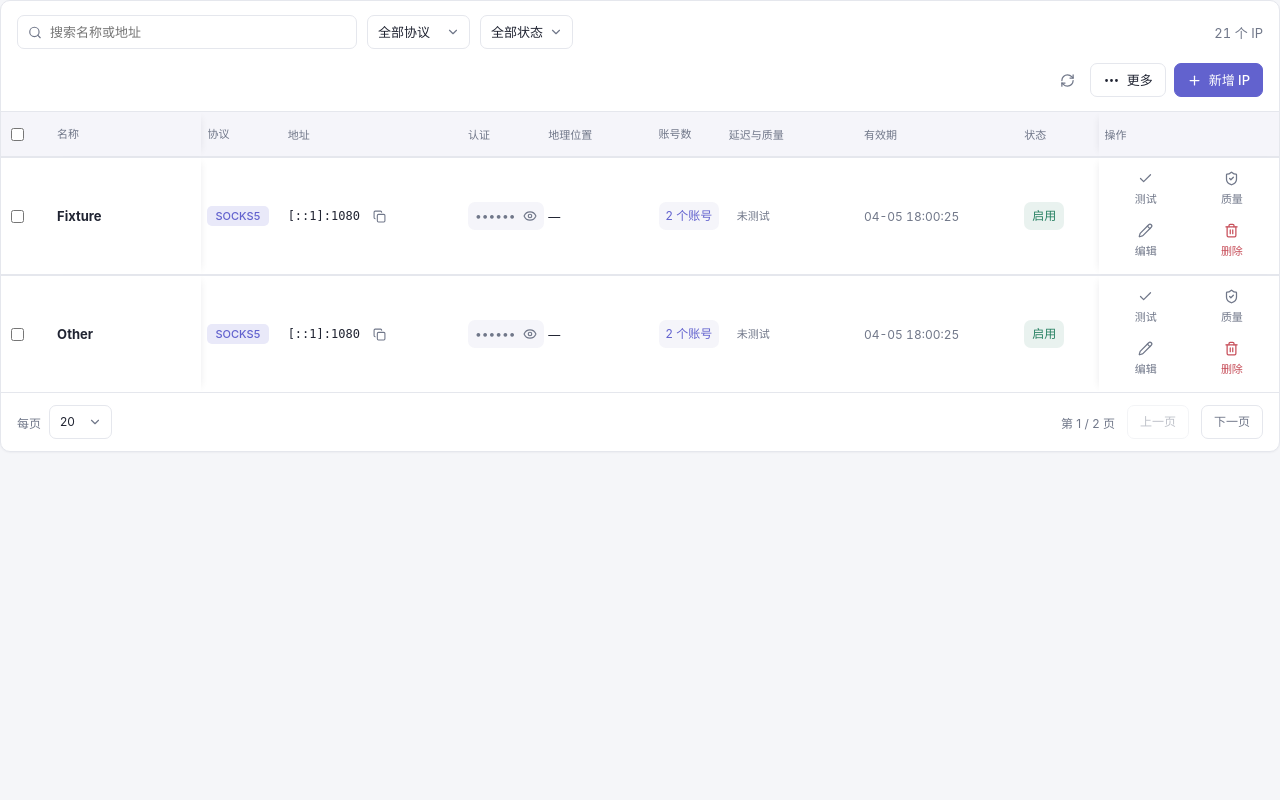
it: IP administration › uses existing diagnostic routes and shows the quality report
Click the button "质量" in the row of "Fixture": (1232, 190) left=1191, top=166, right=1273, bottom=214
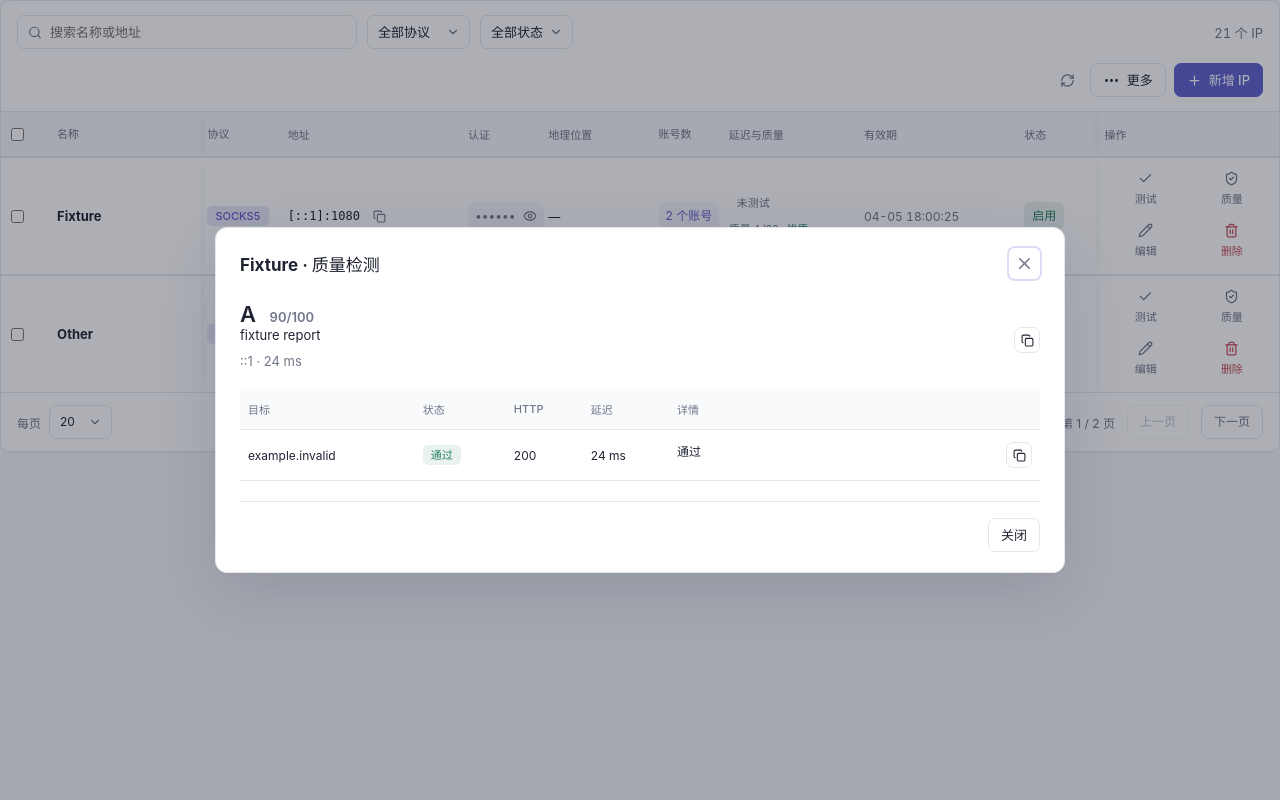
Expected: the dialog shows "fixture report", left=240, top=327, right=320, bottom=343
